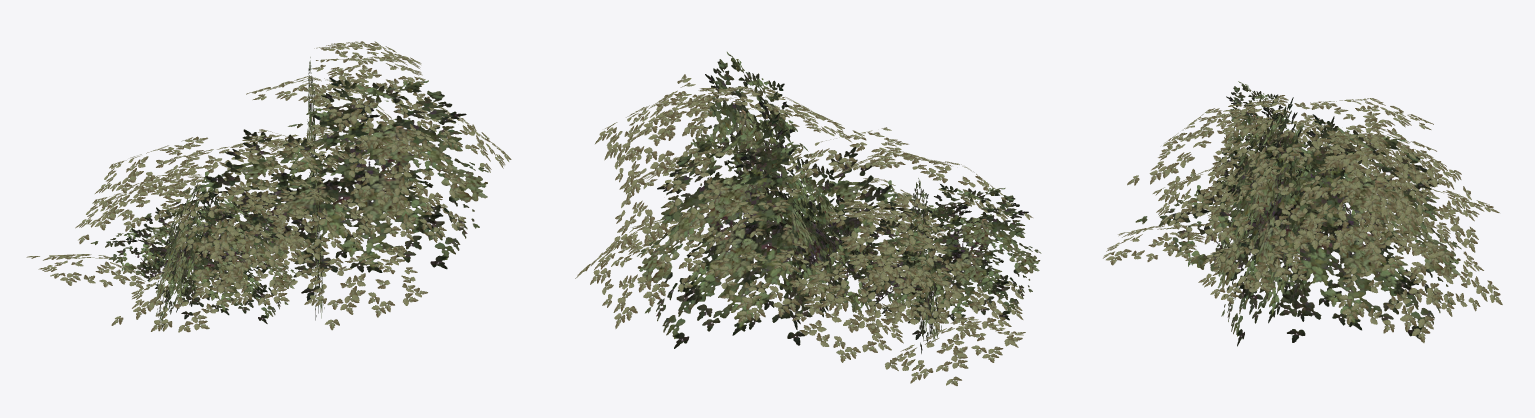
File: decd_saplingclump_lg_l1.fbx
3 views of the same model, side by side, from view 1: azimuth 30°, elevation 25°; view 2: azimuth 150°, elevation 25°; view 3: azimuth 270°, elevation 25° (orthographic). The views are drawn at different scales.
Parts seen in each view (by area): view 1: mesh_node; view 2: mesh_node; view 3: mesh_node.
Part boxes in pixels (box(x1,y1,x2,y2)): mesh_node: box(26, 41, 511, 332); mesh_node: box(575, 52, 1041, 385); mesh_node: box(1103, 81, 1502, 346).
Size of the model in its own units: 7.21 by 3.91 by 5.88.
